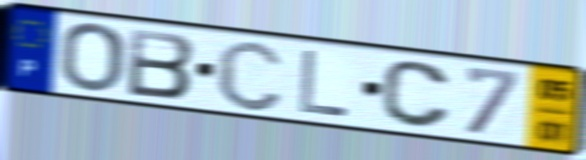7: (462, 62, 522, 139)
B: (125, 25, 198, 101)
C: (214, 37, 286, 114), (379, 58, 454, 131)
L: (296, 47, 352, 119)
O: (58, 20, 128, 94)
